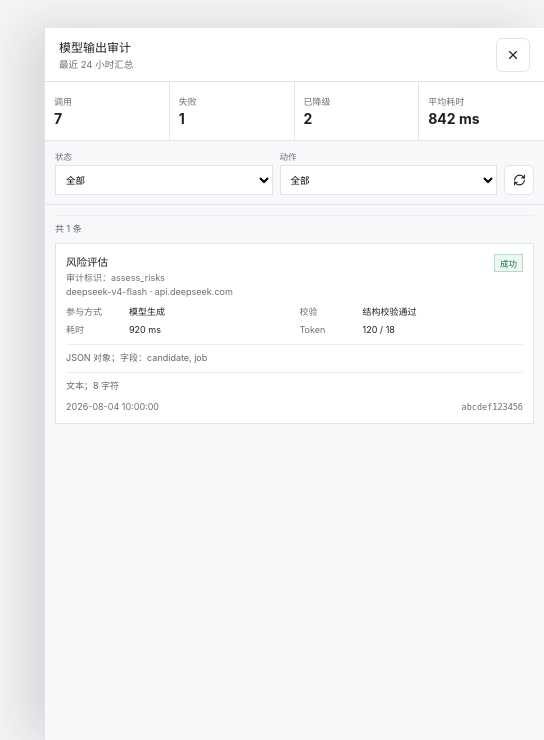
it: ModelAuditPanel › 加载失败清除旧汇总并可点击重试
The width and height of the screenshot is (544, 740).
expect the text "7" is shown: met, box [54, 110, 62, 127]
Click the button named "刷新模型审计".
click(519, 180)  # box [504, 165, 534, 195]
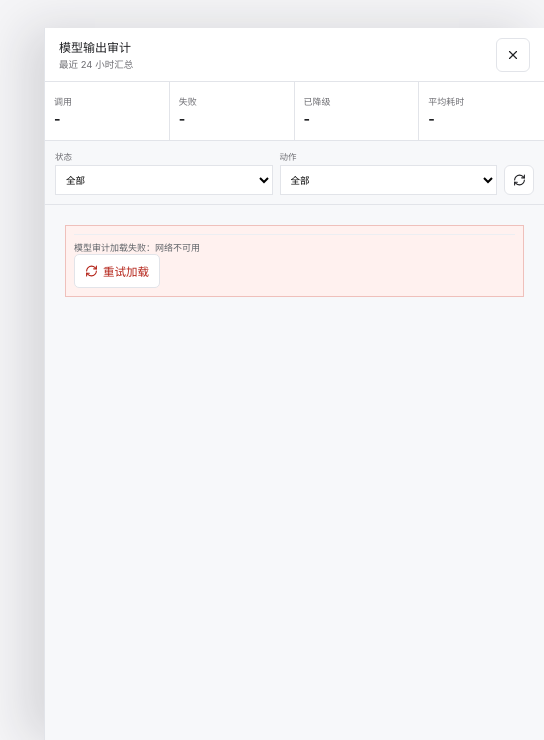
expect the message shows "模型审计加载失败：网络不可用": met, box [74, 242, 200, 253]
expect the text "7" is gone: met
expect the text "风险评估" is gone: met
Click the button "重试加载".
click(117, 271)  # box [74, 254, 160, 288]
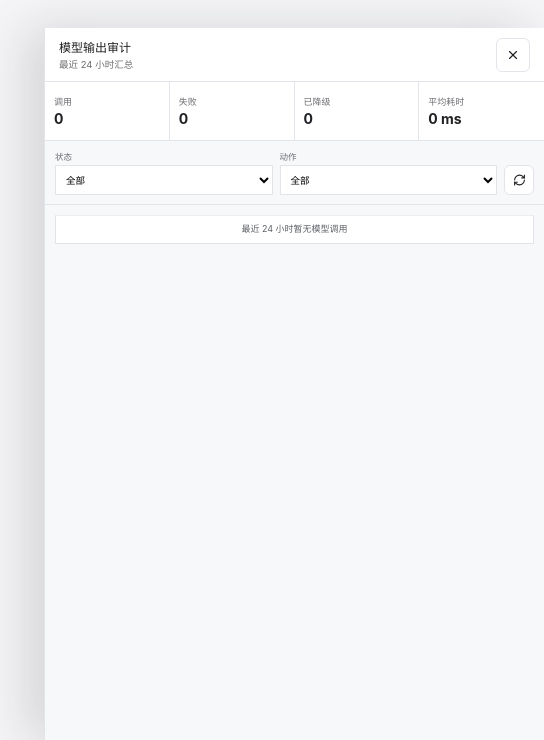
expect the text "最近 24 小时暂无模型调用" is shown: met, box [55, 215, 534, 244]
